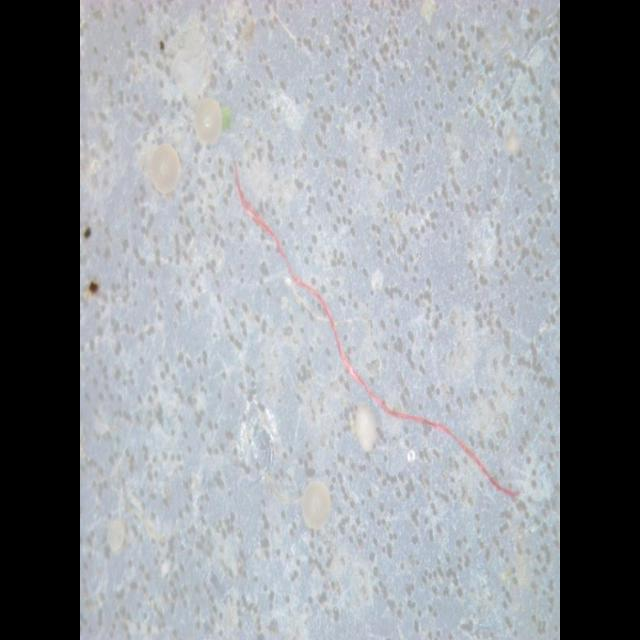Fibre: (231, 157, 521, 499)
